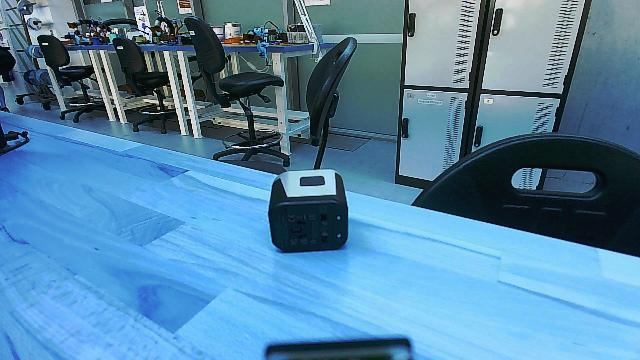adapter: (270, 169, 350, 253)
